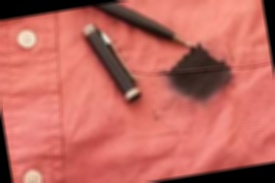ink: (171, 49, 232, 97)
